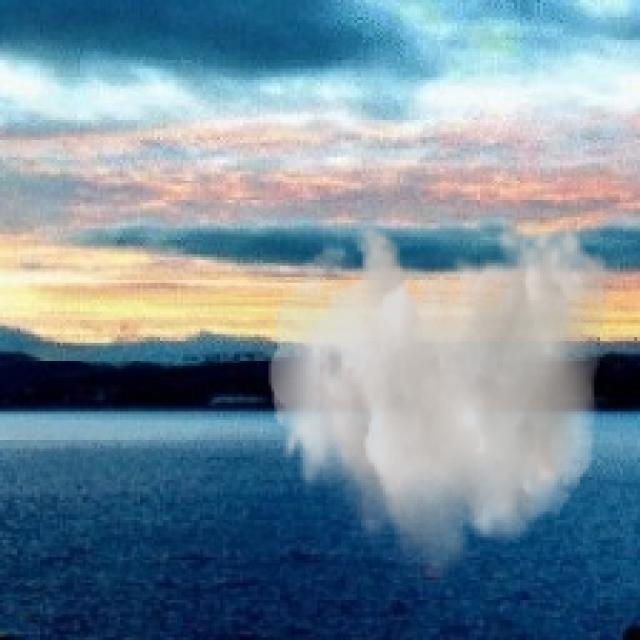smoke: (268, 214, 612, 592)
